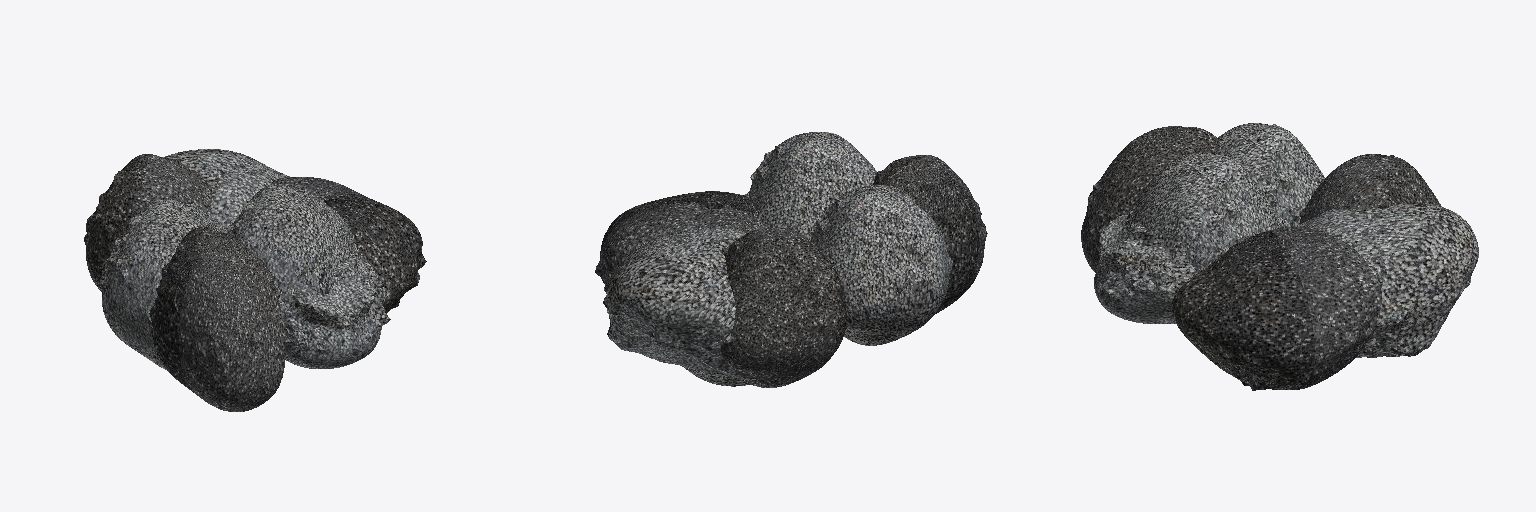
3 views of the same model, side by side, from view 1: azimuth 30°, elevation 25°; view 2: azimuth 150°, elevation 25°; view 3: azimuth 270°, elevation 25° (orthographic).
Parts seen in each view (by area): view 1: Icosphere_Icosphere.007_Icosphere_Icosphere.000, Icosphere_Icosphere.000_Icosphere_Icosphere.002, Icosphere_Icosphere.001, Icosphere_Icosphere.003_Icosphere_Icosphere.004, Icosphere_Icosphere.004_Icosphere_Icosphere.005, Icosphere_Icosphere.008_Icosphere_Icosphere.009, Icosphere_Icosphere.005_Icosphere_Icosphere.006; view 2: Icosphere_Icosphere.001, Icosphere_Icosphere.008_Icosphere_Icosphere.009, Icosphere_Icosphere.005_Icosphere_Icosphere.006, Icosphere_Icosphere.000_Icosphere_Icosphere.002, Icosphere_Icosphere.007_Icosphere_Icosphere.000, Icosphere_Icosphere.004_Icosphere_Icosphere.005, Icosphere_Icosphere.002_Icosphere_Icosphere.003; view 3: Icosphere_Icosphere.004_Icosphere_Icosphere.005, Icosphere_Icosphere.005_Icosphere_Icosphere.006, Icosphere_Icosphere.000_Icosphere_Icosphere.002, Icosphere_Icosphere.003_Icosphere_Icosphere.004, Icosphere_Icosphere.007_Icosphere_Icosphere.000, Icosphere_Icosphere.001, Icosphere_Icosphere.008_Icosphere_Icosphere.009.
Part boxes in pixels (left/top/right/bottom): Icosphere_Icosphere.007_Icosphere_Icosphere.000: left=149, top=227, right=287, bottom=411; Icosphere_Icosphere.000_Icosphere_Icosphere.002: left=228, top=184, right=355, bottom=312; Icosphere_Icosphere.001: left=99, top=198, right=227, bottom=369; Icosphere_Icosphere.003_Icosphere_Icosphere.004: left=281, top=242, right=390, bottom=368; Icosphere_Icosphere.004_Icosphere_Icosphere.005: left=270, top=177, right=426, bottom=313; Icosphere_Icosphere.008_Icosphere_Icosphere.009: left=84, top=154, right=211, bottom=291; Icosphere_Icosphere.005_Icosphere_Icosphere.006: left=163, top=149, right=289, bottom=229; Icosphere_Icosphere.001: left=810, top=185, right=952, bottom=345; Icosphere_Icosphere.008_Icosphere_Icosphere.009: left=721, top=227, right=845, bottom=387; Icosphere_Icosphere.005_Icosphere_Icosphere.006: left=603, top=228, right=757, bottom=379; Icosphere_Icosphere.000_Icosphere_Icosphere.002: left=744, top=132, right=876, bottom=240; Icosphere_Icosphere.007_Icosphere_Icosphere.000: left=873, top=155, right=987, bottom=314; Icosphere_Icosphere.004_Icosphere_Icosphere.005: left=595, top=191, right=768, bottom=284; Icosphere_Icosphere.002_Icosphere_Icosphere.003: left=682, top=366, right=750, bottom=386; Icosphere_Icosphere.004_Icosphere_Icosphere.005: left=1171, top=227, right=1381, bottom=390; Icosphere_Icosphere.005_Icosphere_Icosphere.006: left=1295, top=203, right=1478, bottom=357; Icosphere_Icosphere.000_Icosphere_Icosphere.002: left=1123, top=152, right=1280, bottom=269; Icosphere_Icosphere.003_Icosphere_Icosphere.004: left=1094, top=215, right=1204, bottom=323; Icosphere_Icosphere.007_Icosphere_Icosphere.000: left=1081, top=126, right=1218, bottom=272; Icosphere_Icosphere.001: left=1217, top=123, right=1324, bottom=226; Icosphere_Icosphere.008_Icosphere_Icosphere.009: left=1299, top=154, right=1441, bottom=223.
Bounding box in the file's own units: 0.924 × 0.5222 × 0.99.
8 materials, 2 textured.